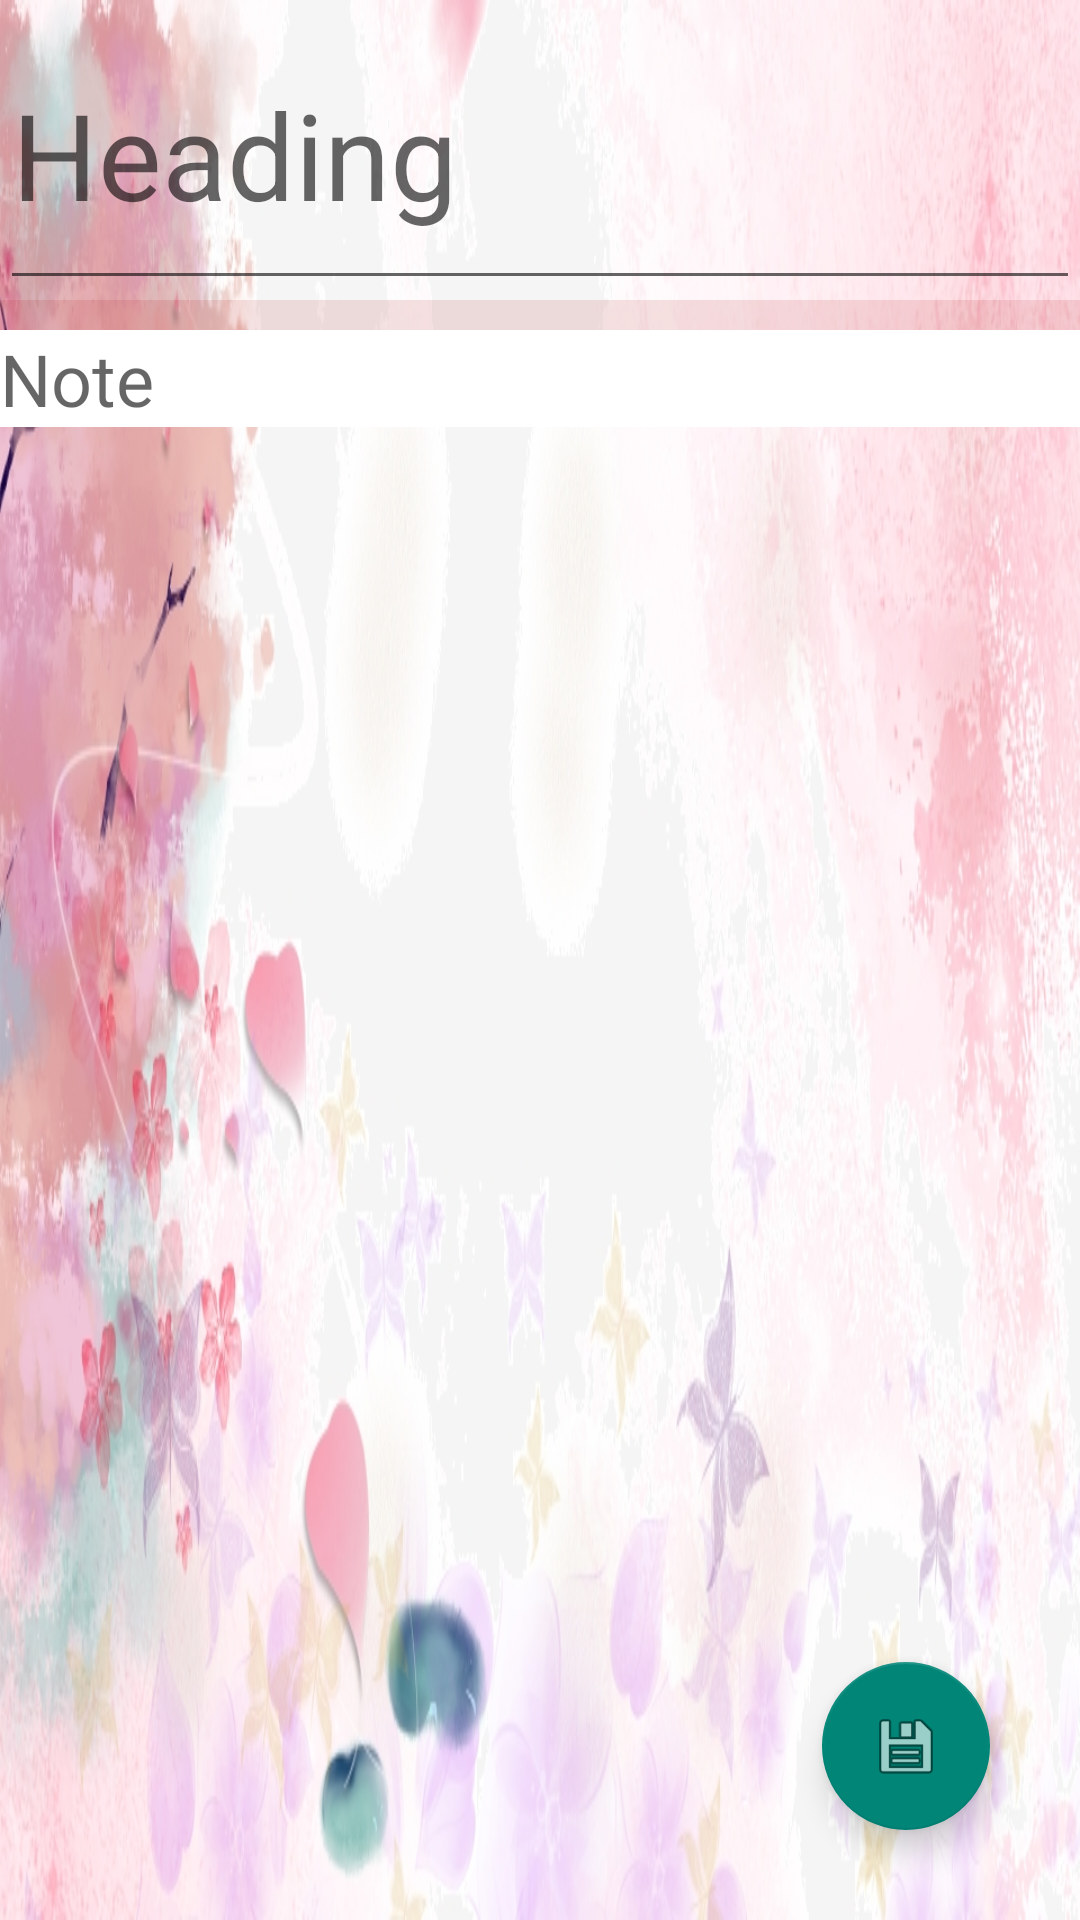

Named icons in this screenshot (1080 × 1920) and their bounding boxes, [x1, y1, x2, y2]:
save: [822, 1662, 990, 1830]
